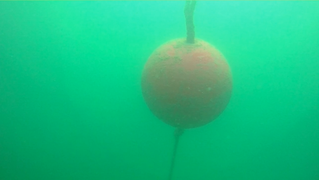buoy: (140, 38, 233, 130)
